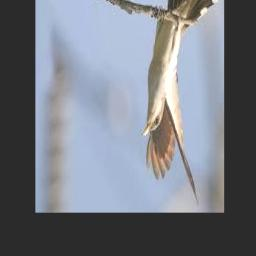Cuckoo: (141, 0, 218, 203)
